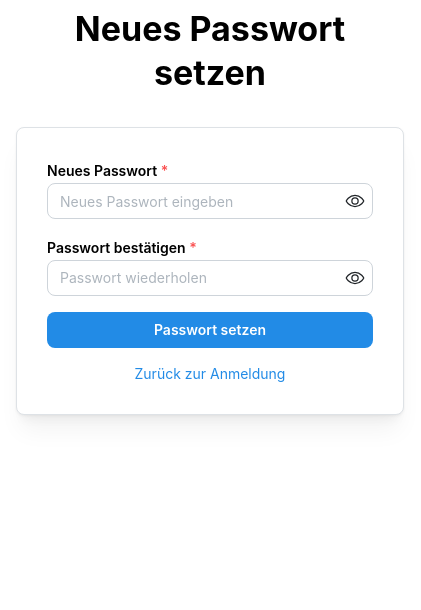
SetPassword › shows an error message when the backend rejects the token
Type "password123" into the password field labelled "Neues Passwort *" at (210, 201), box [48,184,372,218]
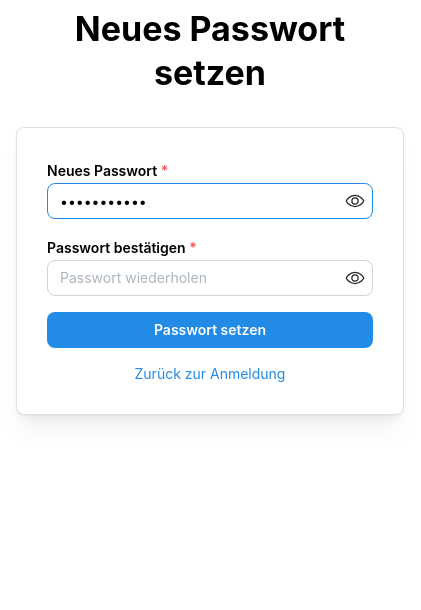
Type "password123" into the password field labelled "Passwort bestätigen *" at (210, 278), box [48,261,372,295]
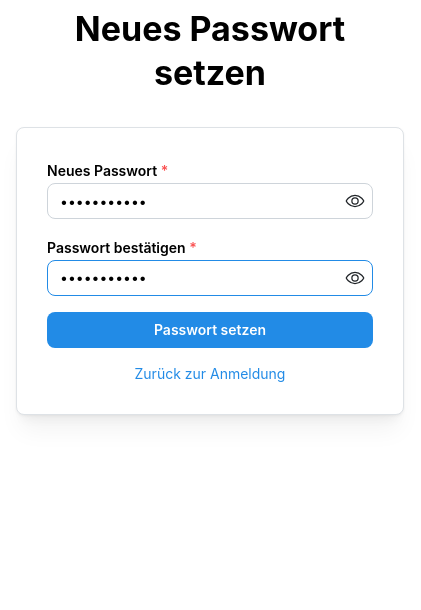
Click the button "Passwort setzen" at (210, 330), box [47,312,373,348]
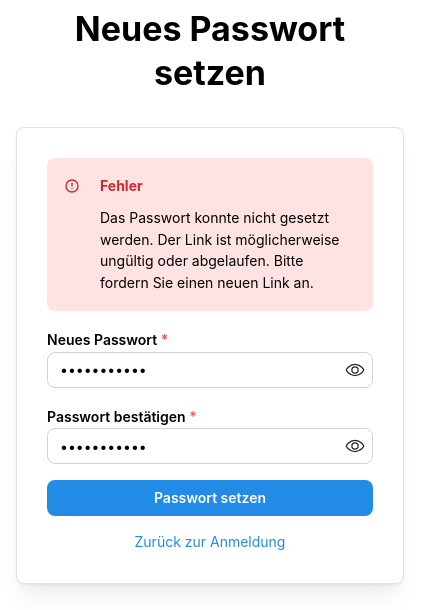
Check: the text "Der Link ist möglicherweise ungültig oder abgelaufen" is shown, box [100,209,340,291]
